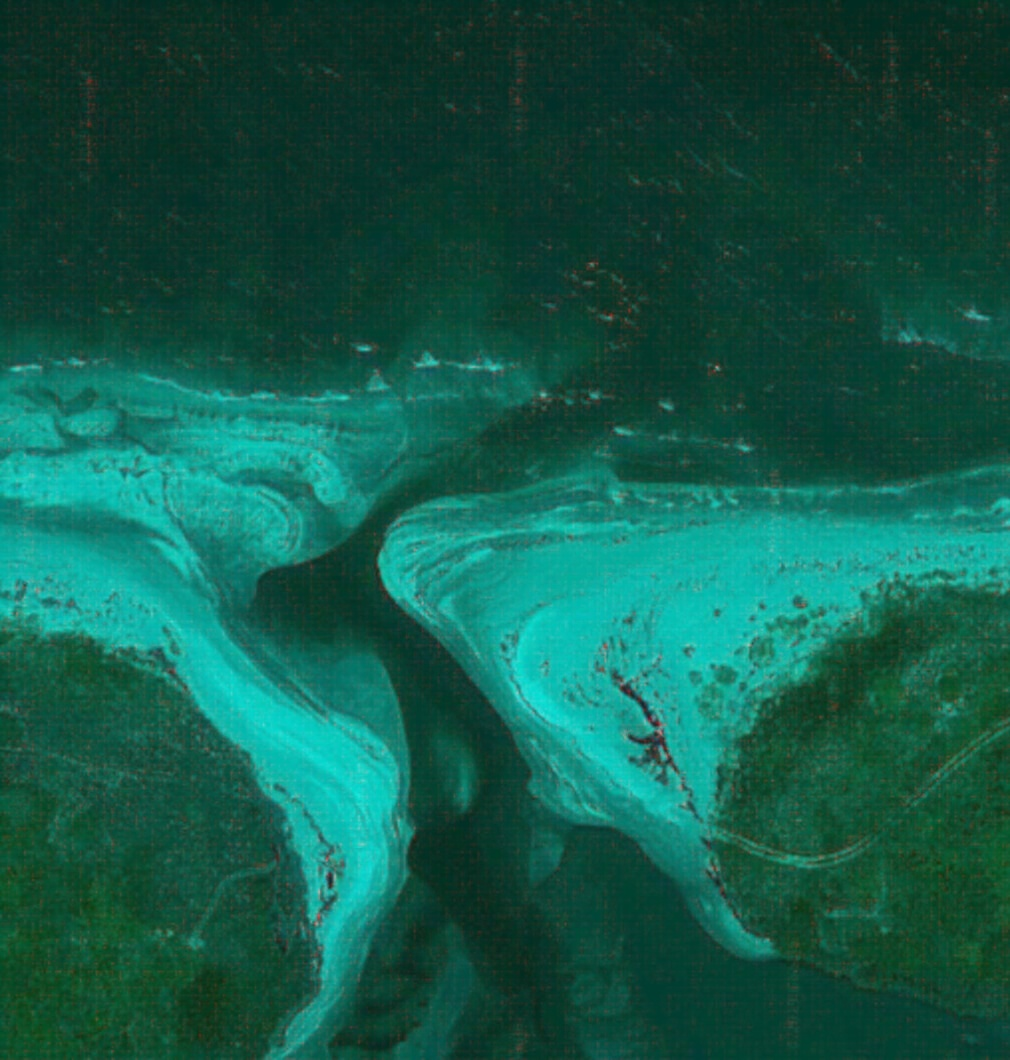rip_current: (496, 19, 782, 453)
